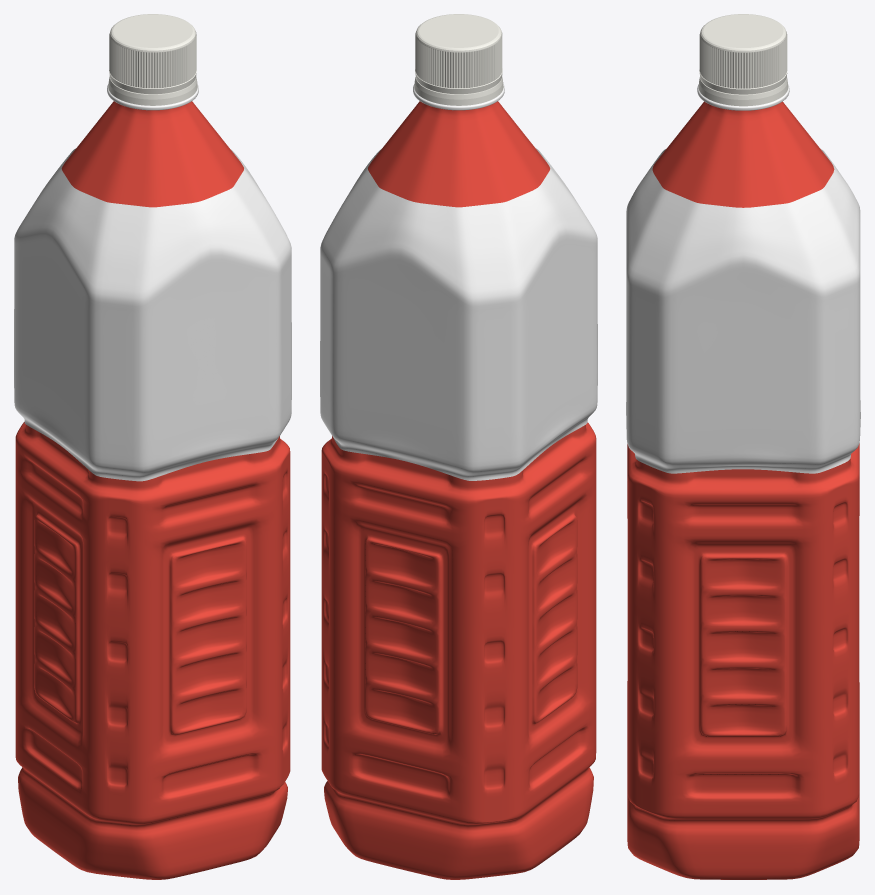
File: pet-1500-short-label.glb
3 renders of one model, left to right at view 1: azimuth 30°, elevation 25°; view 2: azimuth 150°, elevation 25°; view 3: azimuth 270°, elevation 25°, orthographic.
Visible parts, largest first — view 1: Water, Label, Cap; view 2: Water, Label, Cap; view 3: Water, Label, Cap, Body.
Boxes of the visible parts, bbox=[...] form: Water: bbox=[15, 101, 290, 879]; Label: bbox=[14, 148, 291, 481]; Cap: bbox=[108, 14, 197, 105]; Water: bbox=[321, 101, 596, 879]; Label: bbox=[320, 148, 597, 480]; Cap: bbox=[414, 14, 503, 105]; Water: bbox=[627, 101, 859, 879]; Label: bbox=[626, 149, 860, 473]; Cap: bbox=[698, 14, 788, 106]; Body: bbox=[697, 84, 789, 110].
Bounding box in the file's own units: 0.0807 × 0.3047 × 0.0806.
